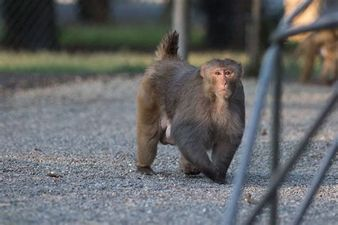monkey: (97, 40, 304, 189)
